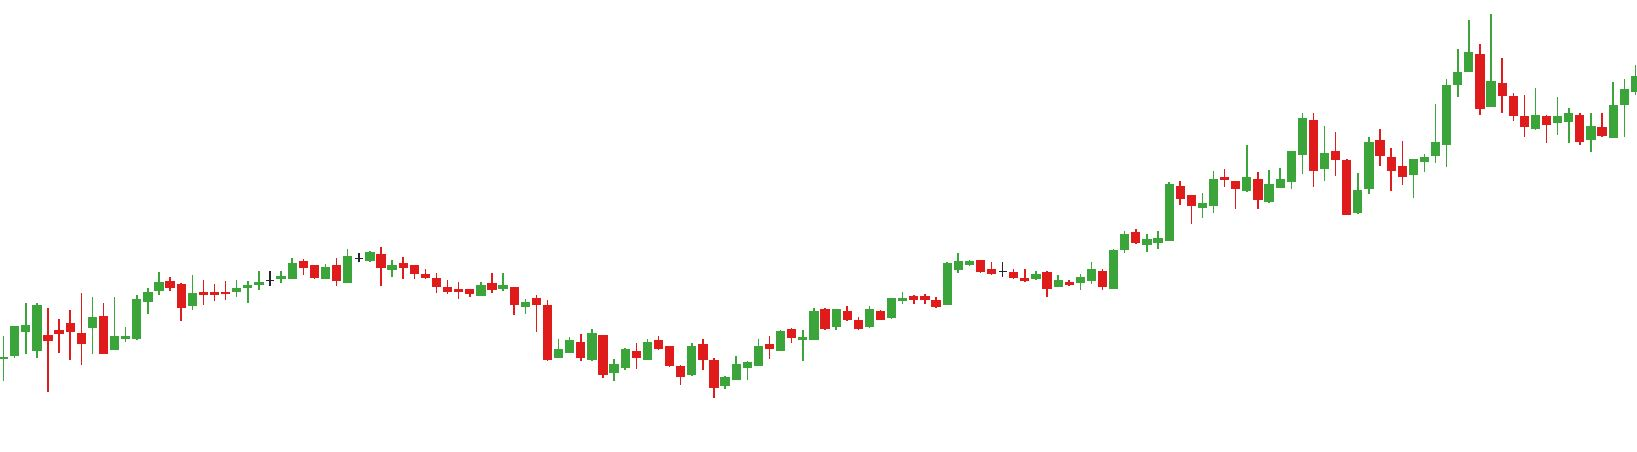buy: (1251, 147, 1361, 221)
